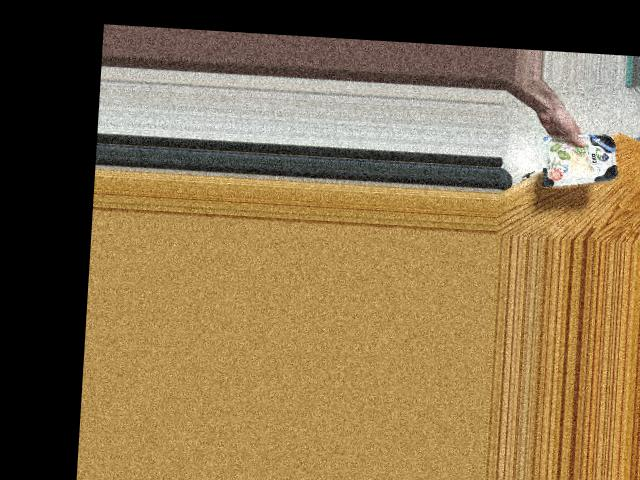cheese: (539, 122, 619, 190)
